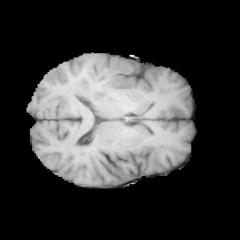glioma: (68, 57, 138, 102)
